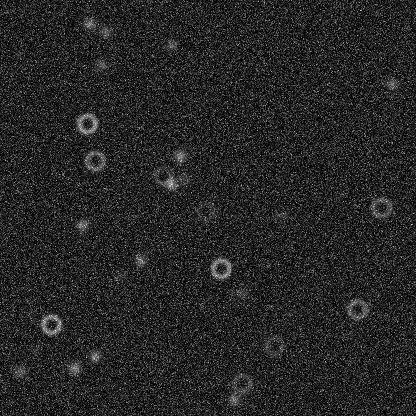Ring: (345, 297, 369, 321), (150, 163, 174, 187), (83, 148, 107, 172), (74, 111, 98, 135), (262, 333, 286, 357), (208, 256, 232, 280), (193, 199, 217, 223), (229, 371, 253, 395), (39, 312, 63, 336), (369, 195, 393, 219)
Spot: (86, 348, 102, 364), (383, 75, 399, 91), (97, 23, 113, 39), (233, 285, 249, 301), (93, 56, 109, 72), (81, 15, 97, 31), (12, 363, 28, 379), (111, 267, 127, 283), (132, 252, 148, 268), (274, 207, 290, 223), (171, 148, 187, 164), (175, 170, 191, 186), (162, 175, 178, 191), (162, 37, 178, 53), (66, 360, 82, 376), (23, 306, 39, 322), (74, 217, 90, 233), (226, 391, 242, 407), (27, 342, 43, 358)
